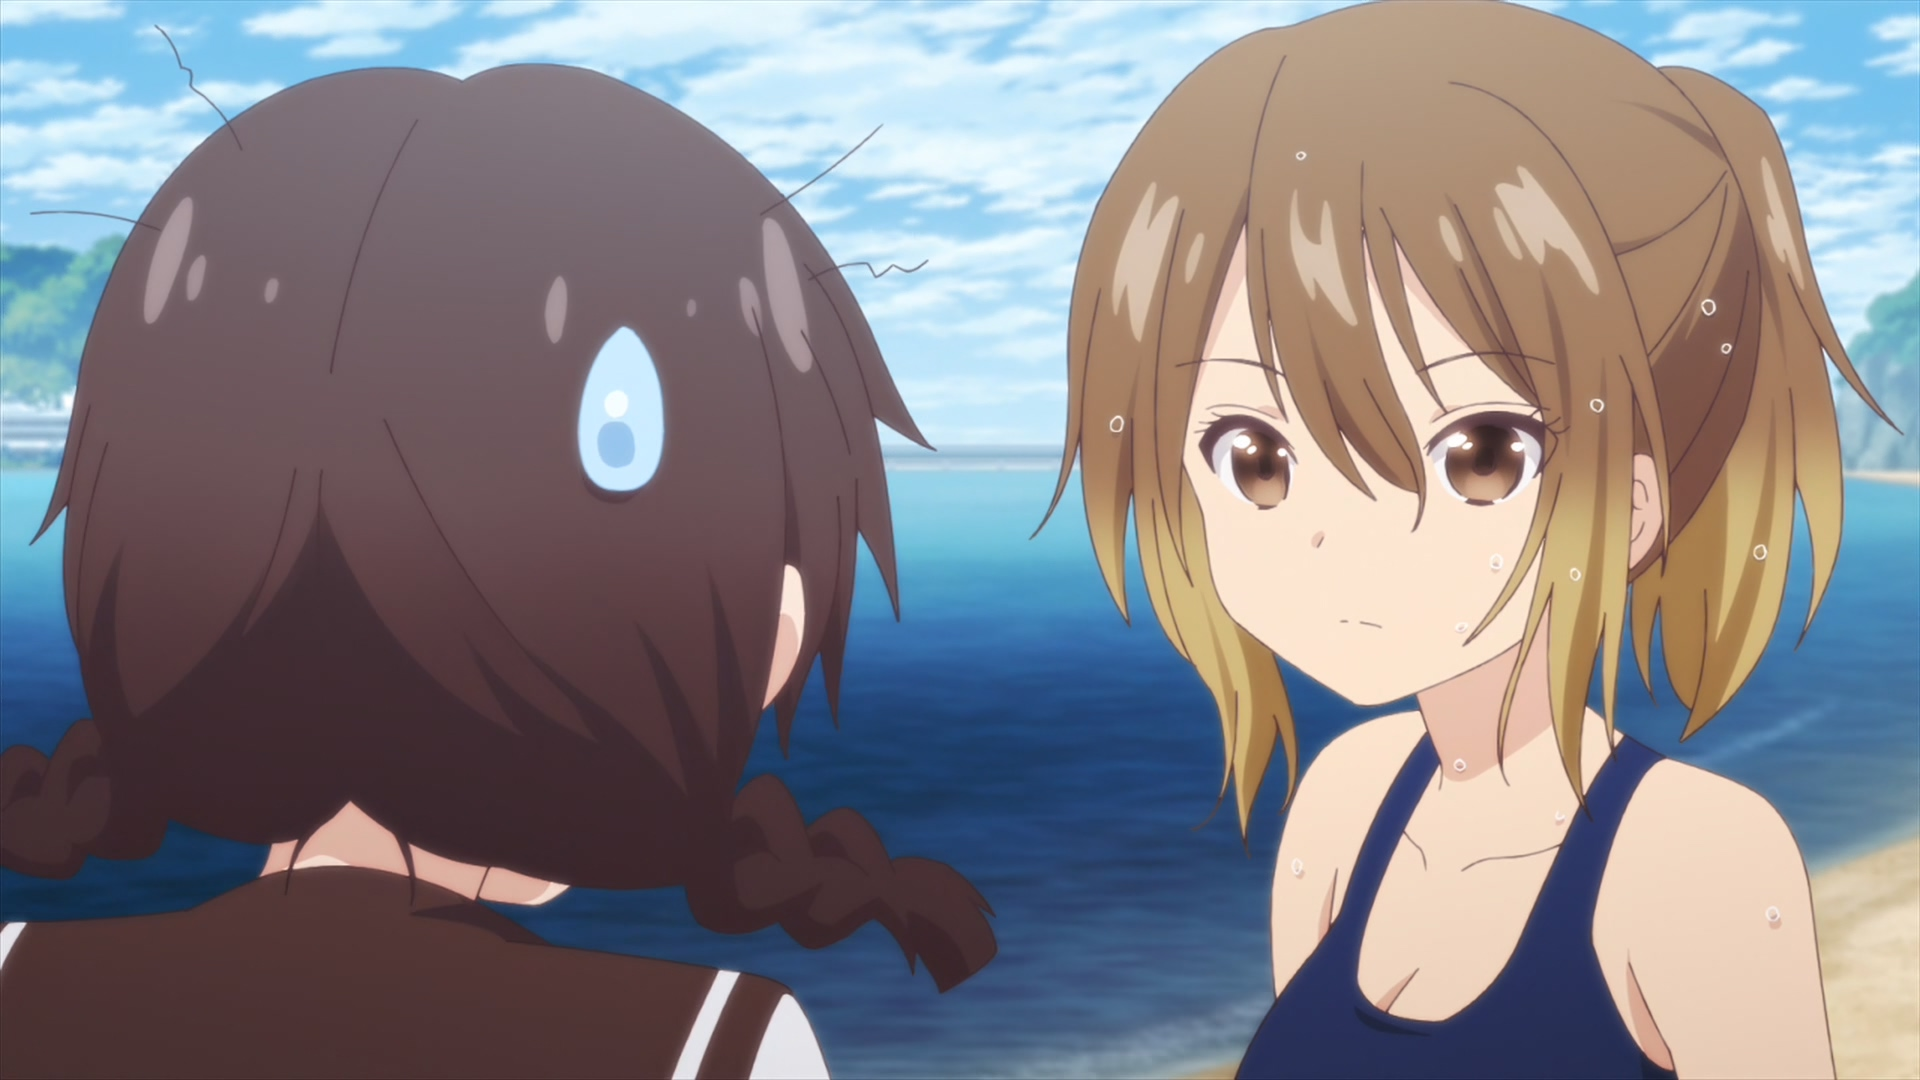其他: (1, 26, 997, 1080), (1027, 1, 1903, 1080)
